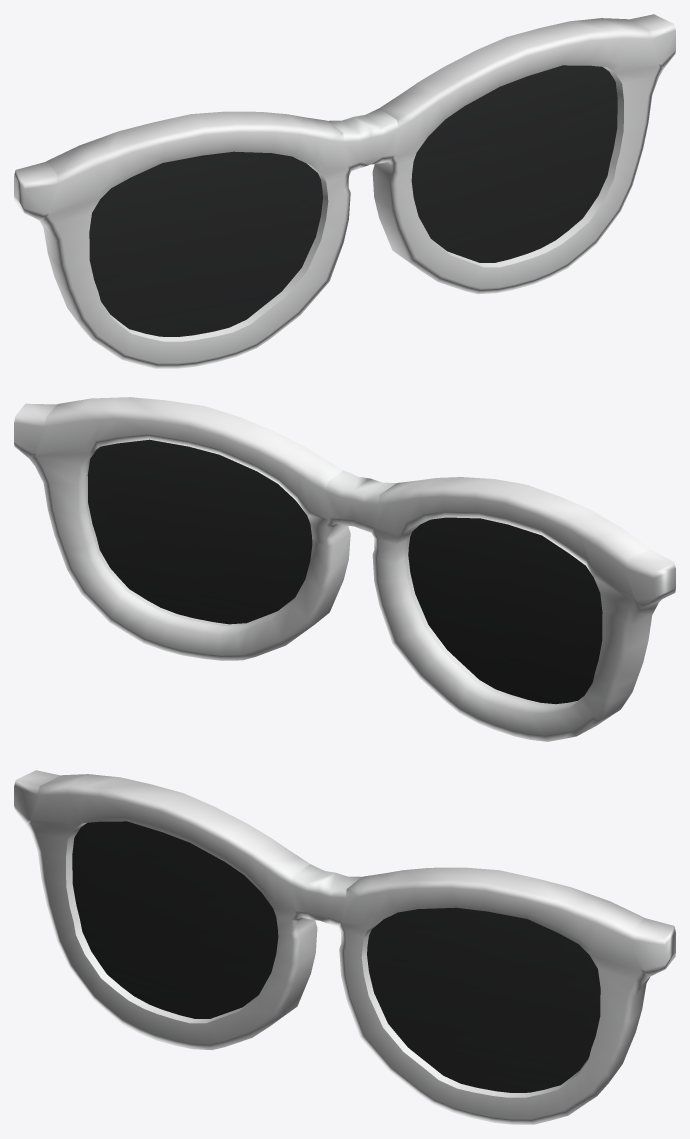
Rendered from Glasses_01.glb.
3 renders of one model, top to bottom at view 1: azimuth 30°, elevation 25°; view 2: azimuth 150°, elevation 25°; view 3: azimuth 330°, elevation 25°, orthographic.
Visible parts, largest first — view 1: Glasses_01; view 2: Glasses_01; view 3: Glasses_01.
Part boxes in pixels (x1=…): Glasses_01: x1=14, y1=14, x2=675, y2=368; Glasses_01: x1=14, y1=397, x2=675, y2=741; Glasses_01: x1=14, y1=770, x2=675, y2=1124.
Size of the model in its own units: 0.5403 by 0.189 by 0.0541.
Materials: 1 (1 with a texture image).
